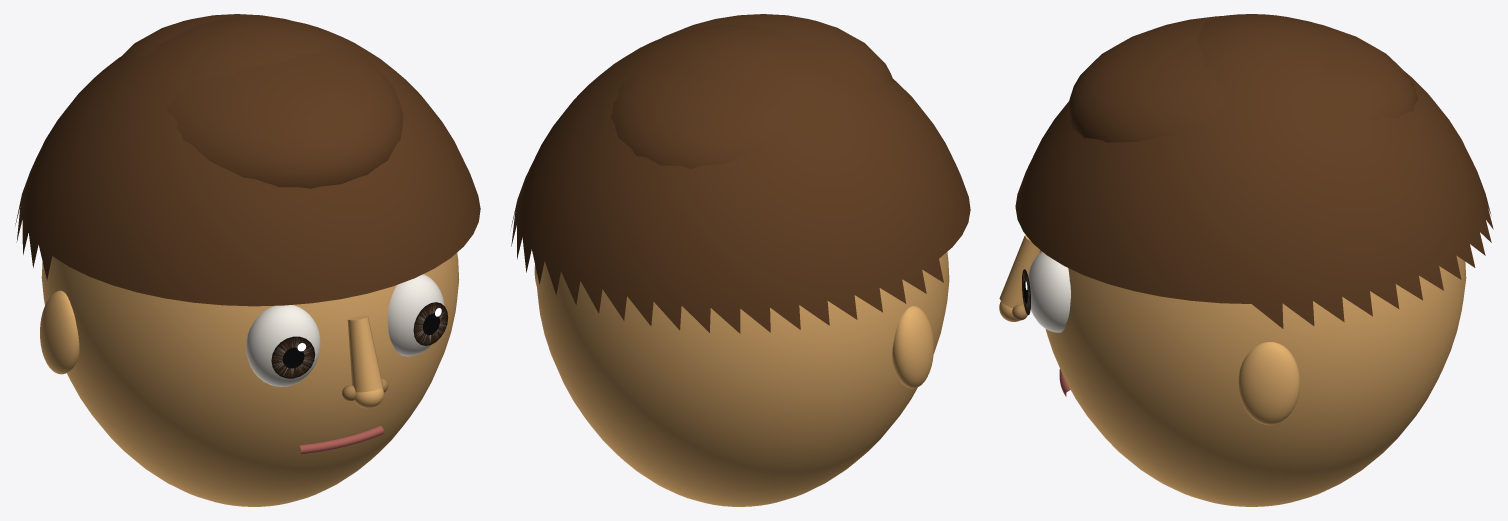
File: homme-03-undercut.glb
3 views of the same model, side by side, from view 1: azimuth 30°, elevation 25°; view 2: azimuth 150°, elevation 25°; view 3: azimuth 270°, elevation 25° (orthographic).
Size of the model in its own units: 0.3196 by 0.343 by 0.3353.
10 materials, 1 textured.
